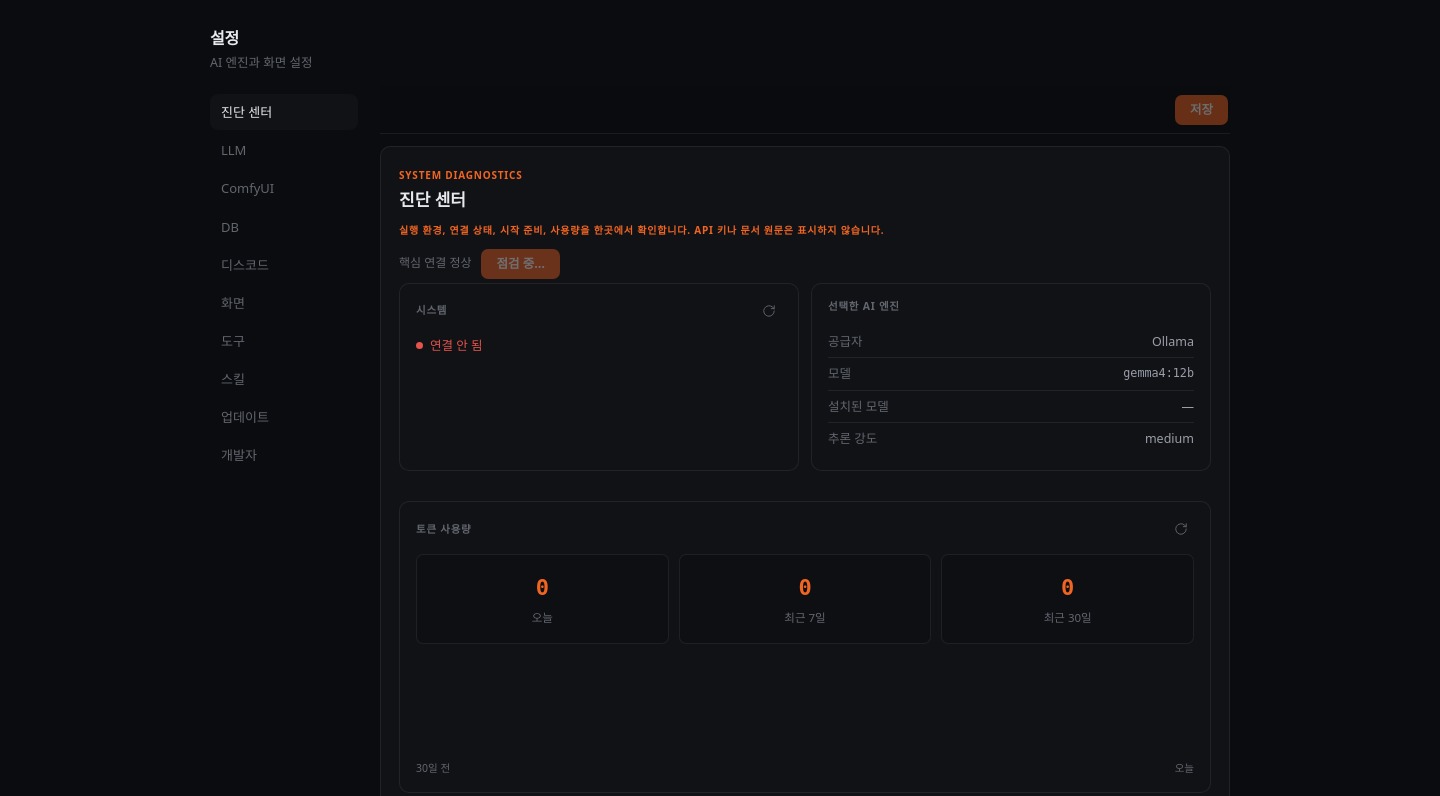
저장소 보고 등록 › 브랜치 목록을 읽지 못하면 사유를 보여 주고 등록으로 넘어가지 않는다
Click the button "디스코드" at (284, 265), box left=210, top=247, right=358, bottom=283
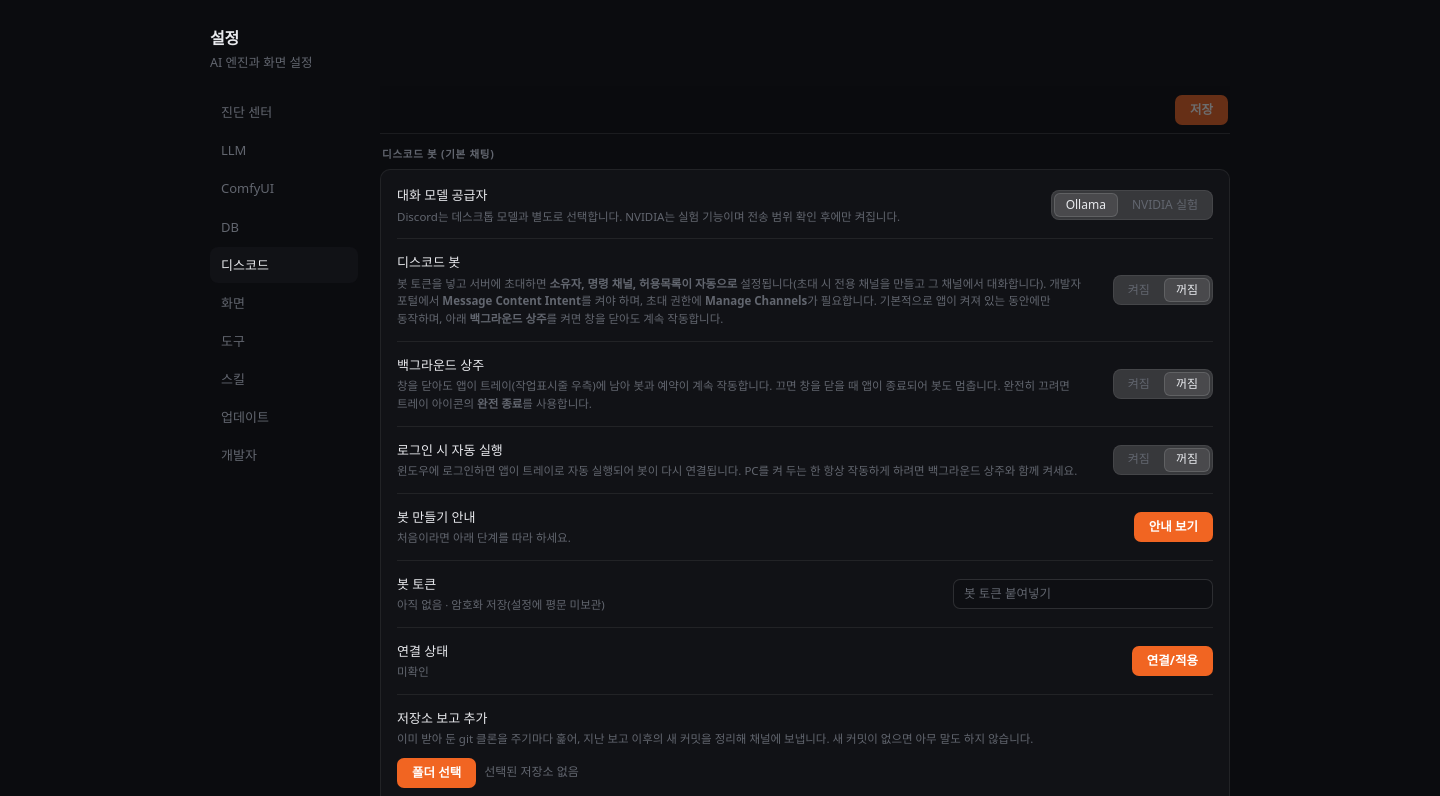
Click the button "폴더 선택" at (437, 772), box left=397, top=758, right=476, bottom=788
(page scrolled)
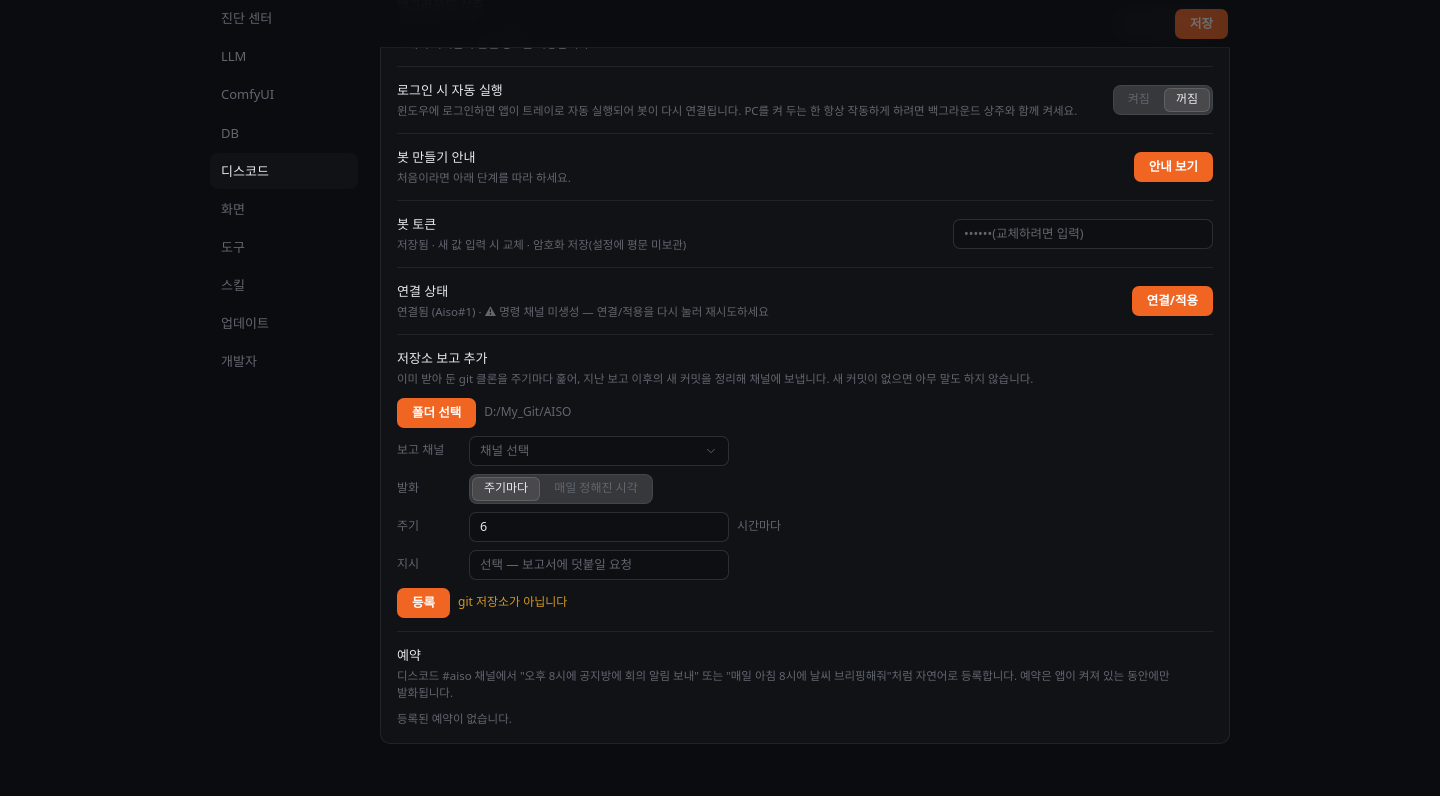
Now the text "git 저장소가 아닙니다" is shown, box left=458, top=593, right=567, bottom=612
